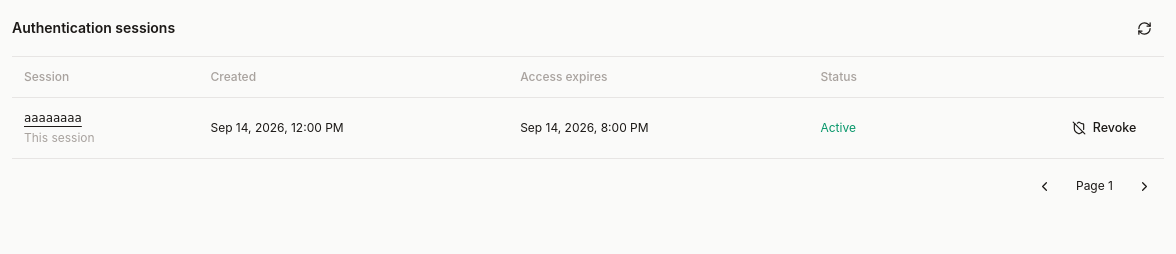
Test case: AgentSessions › shows an error without marking a failed revocation successful
This screenshot has width=1176, height=254.
Step 1. Click the button with aria-label "Revoke session aaaaaaaa" → (1104, 128), box left=1056, top=113, right=1152, bottom=143
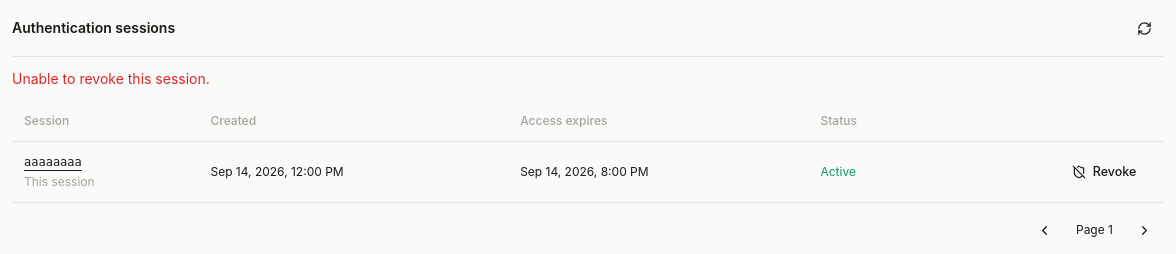
Check: the text "Active" is shown, box left=820, top=164, right=856, bottom=179
Check: the message shows "Unable to revoke", box left=12, top=70, right=210, bottom=87
